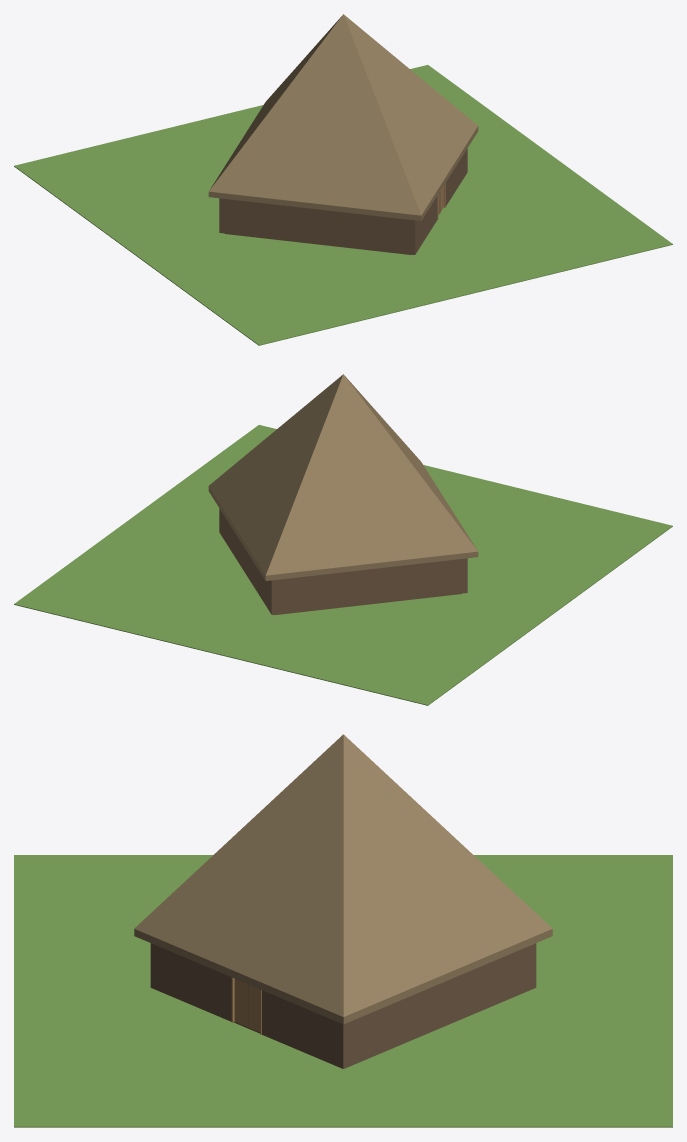
File: casa_hija.glb
The picture shows the model from 3 angles, top to bottom: view 1: azimuth 30°, elevation 25°; view 2: azimuth 150°, elevation 25°; view 3: azimuth 270°, elevation 25°; orthographic projection. The views are drawn at different scales.
Parts seen in each view (by area): view 1: Casa hija; view 2: Casa hija; view 3: Casa hija.
Part boxes in pixels (box(x1,y1,x2,y2)): Casa hija: box(14, 14, 672, 345); Casa hija: box(14, 374, 672, 705); Casa hija: box(14, 734, 672, 1127).
Bounding box in the file's own units: 27.67 × 12.24 × 28.36.
